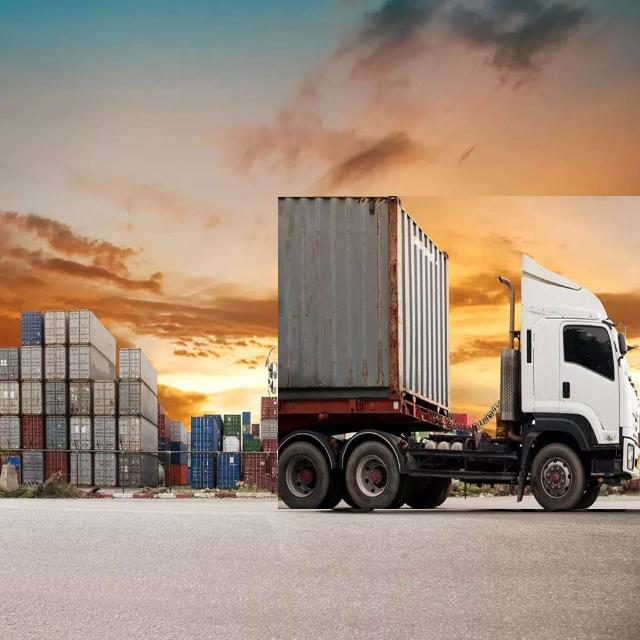truck: (278, 196, 640, 509)
